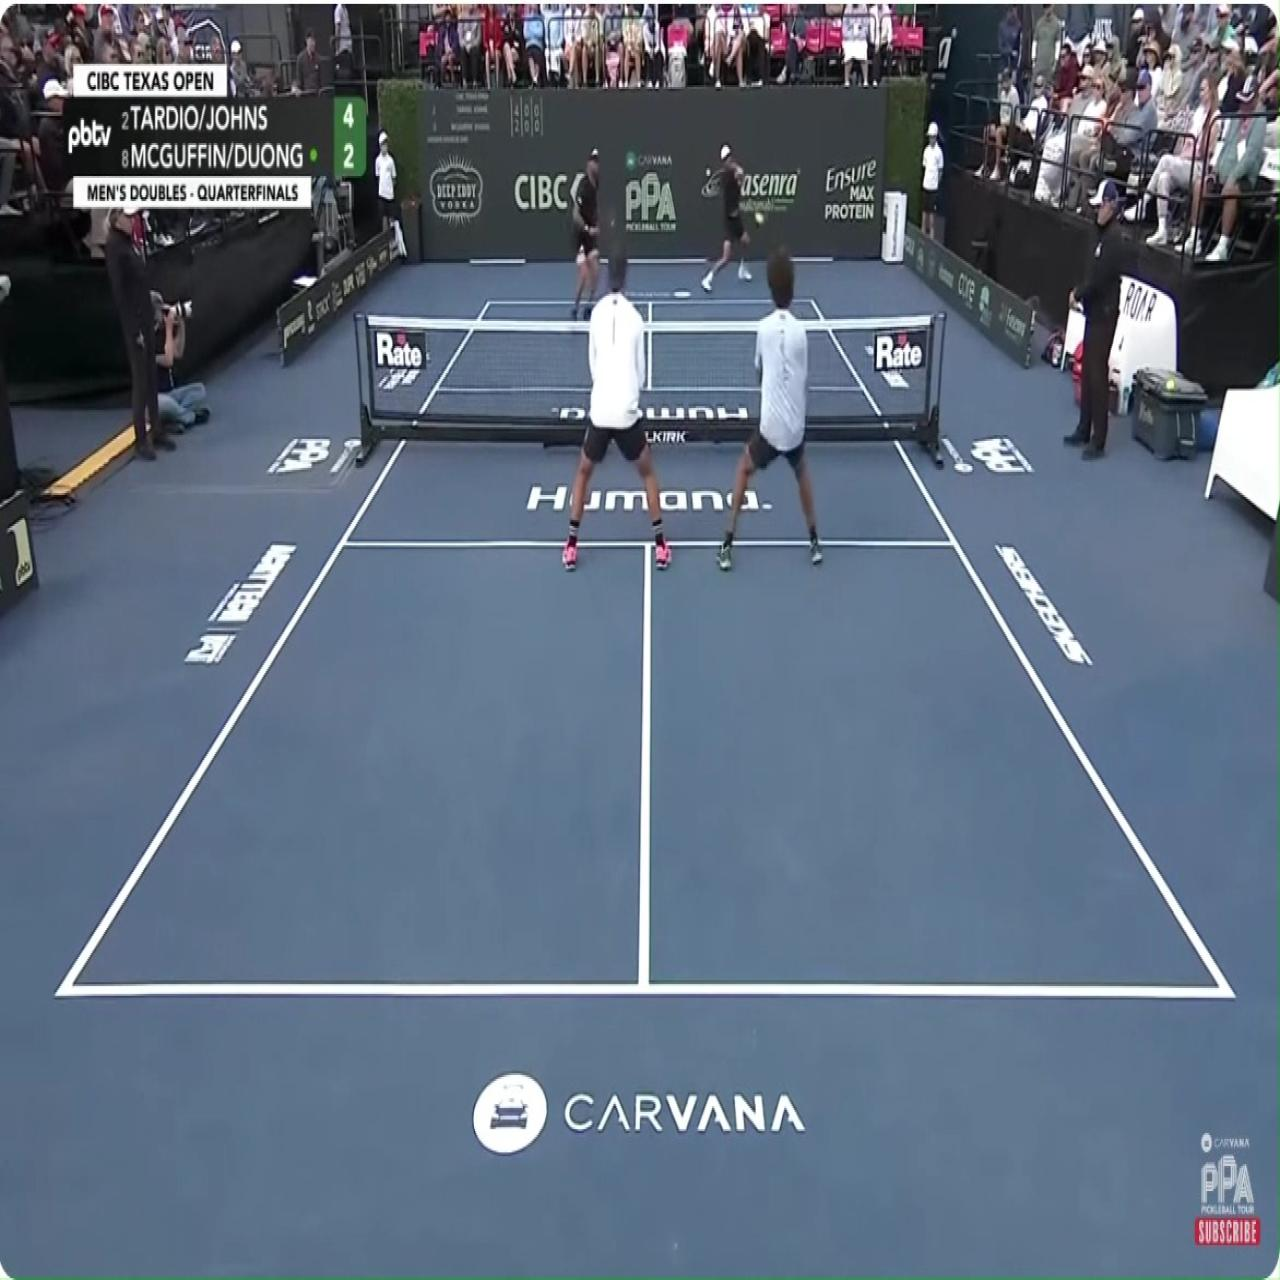pickleball: (755, 211, 765, 225)
